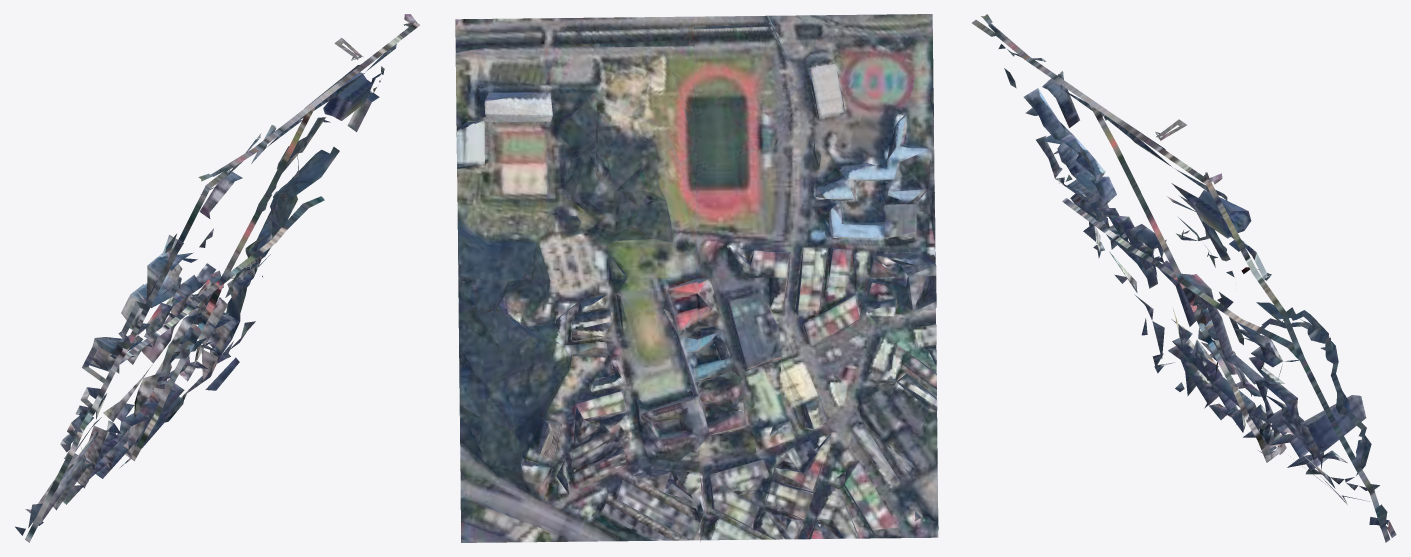
The picture shows the model from 3 angles, left to right: view 1: azimuth 30°, elevation 25°; view 2: azimuth 150°, elevation 25°; view 3: azimuth 270°, elevation 25°; orthographic projection. The views are drawn at different scales.
Bounding box in the file's own units: 620 × 574 × 525.
2 materials, 2 textured.
